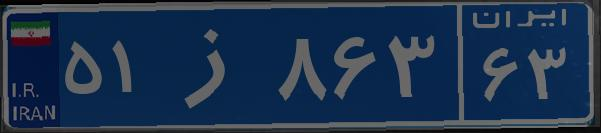1: (110, 28, 158, 105)
3: (385, 28, 445, 110), (525, 38, 570, 115)
5: (57, 26, 110, 107)
6: (330, 28, 385, 110), (475, 38, 525, 113)
8: (273, 28, 330, 110)
ز: (158, 15, 273, 115)
